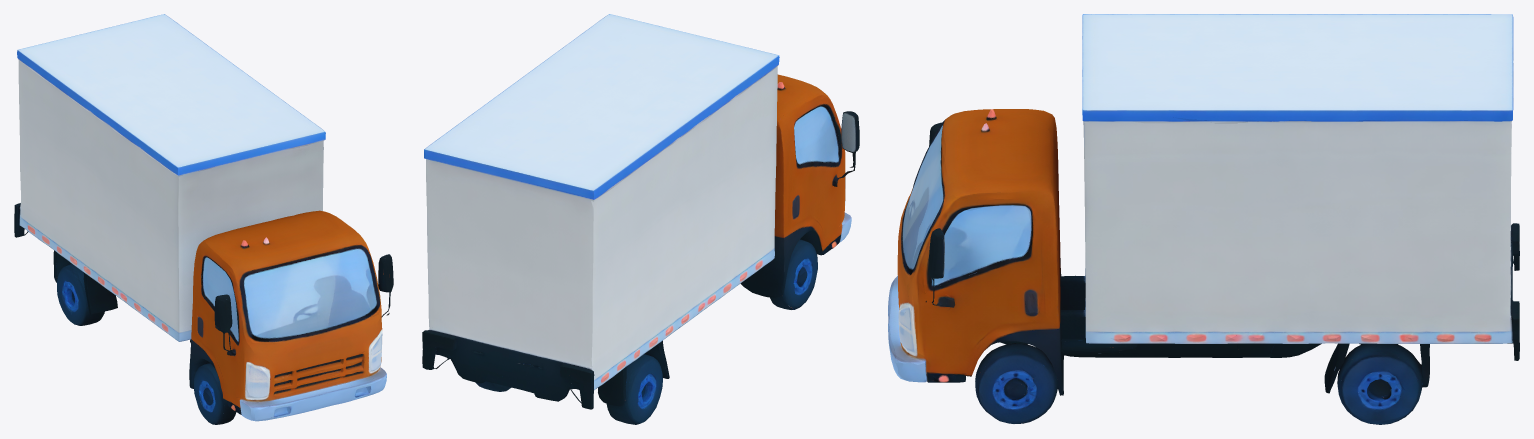
File: camion_na.glb
3 views of the same model, side by side, from view 1: azimuth 30°, elevation 25°; view 2: azimuth 150°, elevation 25°; view 3: azimuth 270°, elevation 25° (orthographic). The views are drawn at different scales.
Visible parts, largest first — view 1: Mesh; view 2: Mesh; view 3: Mesh.
Boxes of the visible parts, x1,y1,x2,y2 form: Mesh: [14, 14, 393, 424]; Mesh: [422, 14, 859, 424]; Mesh: [888, 14, 1519, 424].
Bounding box in the file's own units: 0.7989 × 1.04 × 1.85.
Materials: 1 (1 with a texture image).
